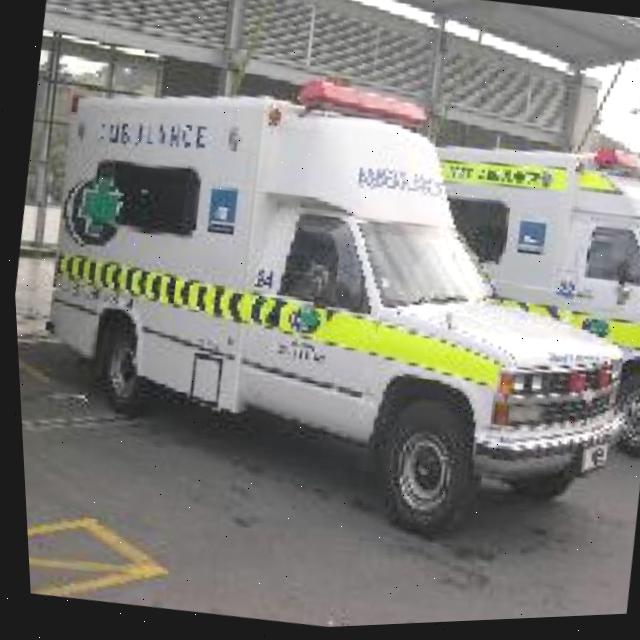emergency: (2, 37, 640, 585)
